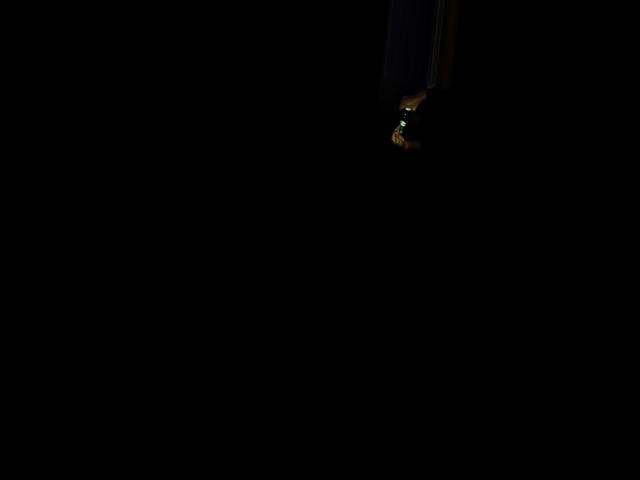beer: (397, 90, 416, 133)
